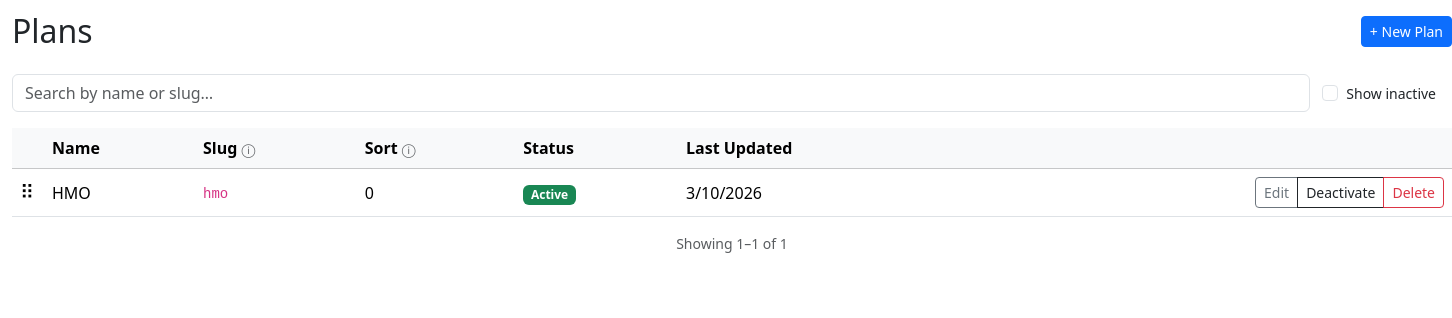
Test: PlansListPage › Data loading › shows Activate button for inactive plan (admin)
This screenshot has width=1452, height=318.
Expected: the text "HMO" is shown, [44,169,195,217]
Click the checkbox labelled "Show inactive" at (1330, 93), box [1322,85,1338,101]
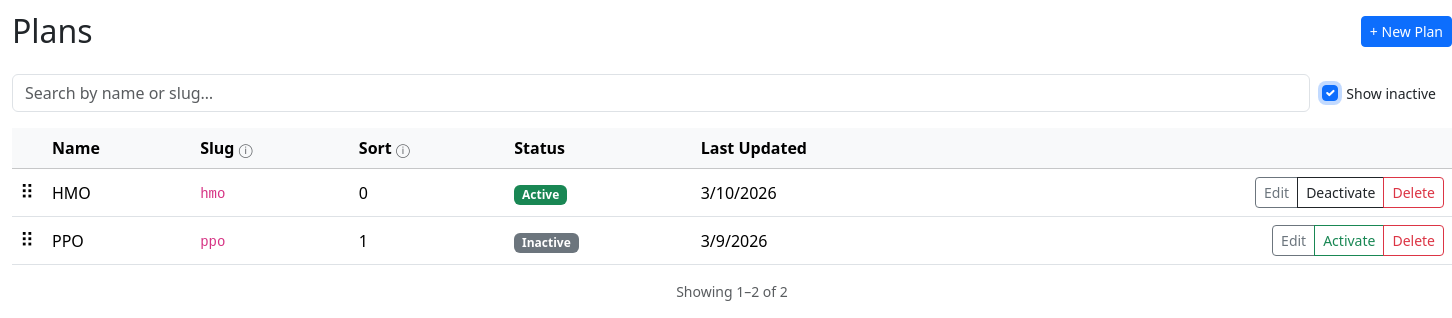
Expected: the button "Activate" is shown, [1314,225,1384,256]
